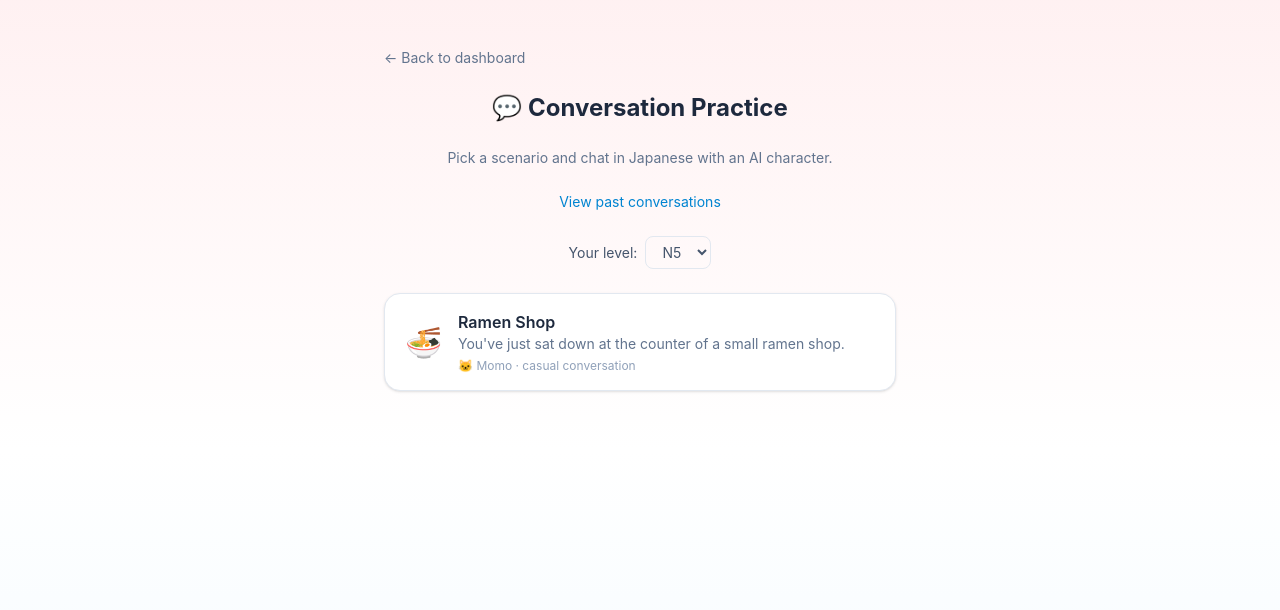
Scenario: ConversationScenariosPage › shows an error message when starting a session fails
This screenshot has width=1280, height=610.
Click the text "Ramen Shop". click: (507, 322)
box: [458,312,555,332]
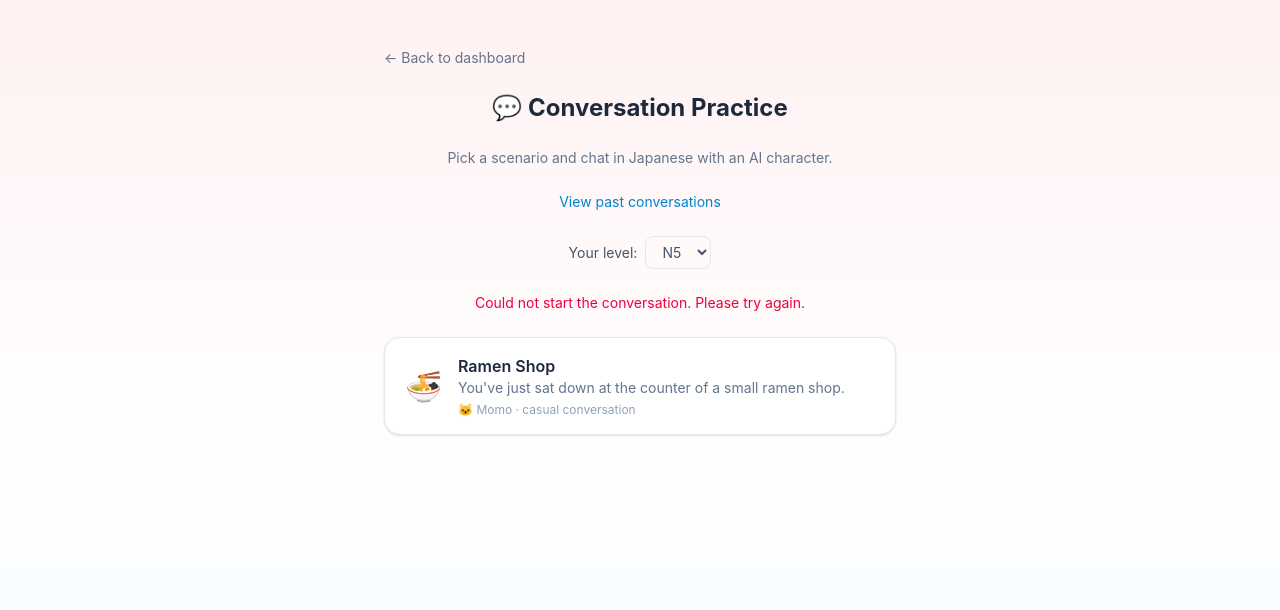
Expected: the text "Could not start the conversation. Please try again." is shown, [475,293,805,313]
